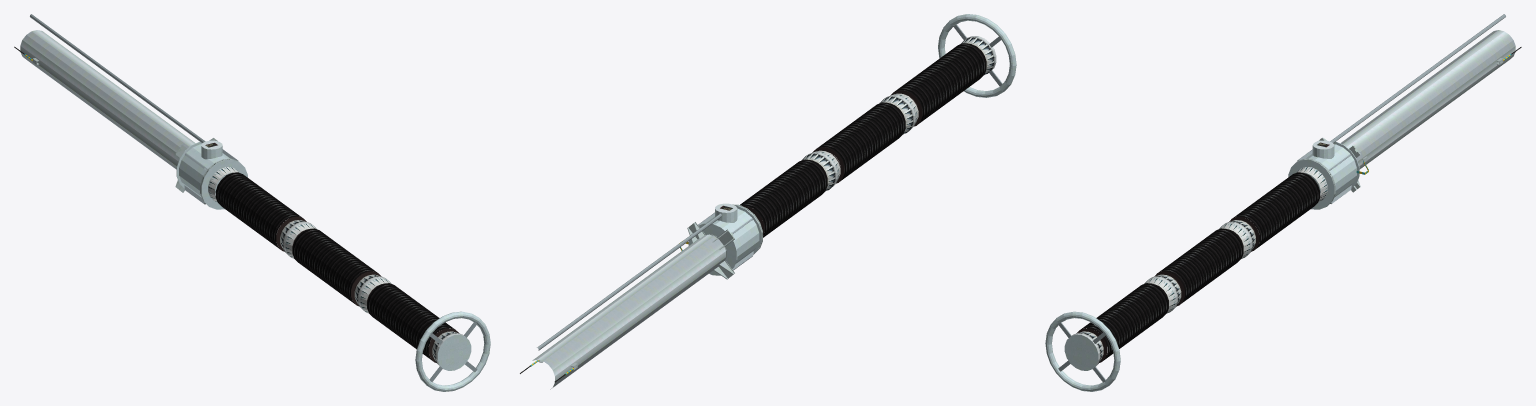
The model's file is pt-11m00000002954785-geode.glb.
3 views of the same model, side by side, from view 1: azimuth 30°, elevation 25°; view 2: azimuth 150°, elevation 25°; view 3: azimuth 330°, elevation 25° (orthographic). The views are drawn at different scales.
Visible parts, largest first — view 1: Node; view 2: Node; view 3: Node.
Boxes of the visible parts, x1,y1,x2,y2 form: Node: [14, 14, 490, 391]; Node: [520, 14, 1016, 389]; Node: [1045, 14, 1521, 391].
Bounding box in the file's own units: 1.04 × 1.04 × 10.22.
Materials: 13 (13 with a texture image).
